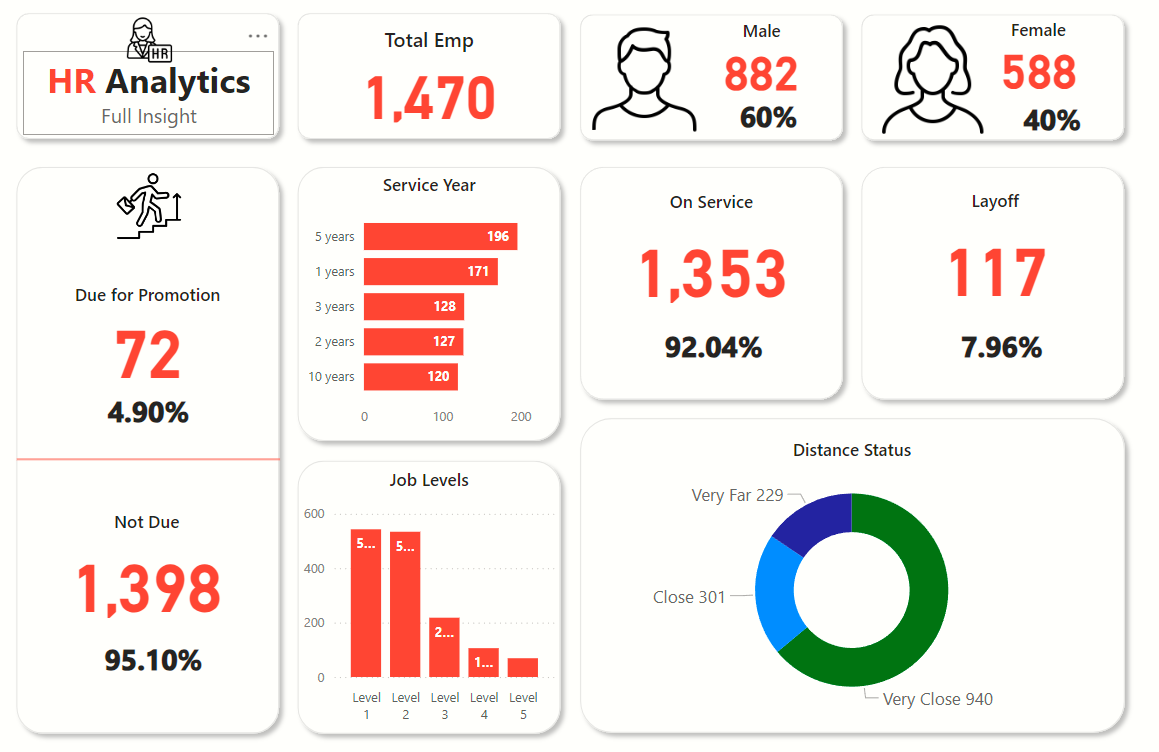

The page's visual inventory and layout, read from the dashboard file:
{"tool":"powerbi","page":{"name":"Page 1","canvas":[1280,720],"ordinal":0},"visuals":[{"type":"shape","box":[15.6,9.7,157.4,699.8],"z":0},{"type":"shape","box":[195.4,16.5,264.4,136.1],"z":1000},{"type":"shape","box":[459.7,16.5,264.4,136.1],"z":2000},{"type":"shape","box":[724.1,17.5,264.4,136.1],"z":3000},{"type":"shape","box":[988.4,17.5,264.4,136.1],"z":4000},{"type":"shape","box":[195.4,160.4,264.4,549.1],"z":5000},{"type":"shape","box":[459.7,160.4,264.4,275],"z":6000},{"type":"shape","box":[459.7,435.4,264.4,274.1],"z":7000},{"type":"shape","box":[724.1,160.4,264.4,236.2],"z":8000},{"type":"shape","box":[988.4,160.4,264.4,236.2],"z":9000},{"type":"shape","box":[724.1,396.5,528.7,313],"z":10000},{"type":"textbox","box":[210.9,61.3,236.2,78.7],"z":11000},{"type":"card","title":"Total Emp","fields":{"Values":["All Measures.Total Emp"]},"box":[468.5,36.9,245.9,95.2],"z":12000},{"type":"image","box":[303.2,24.3,52.5,52.5],"z":13000},{"type":"card","title":"Male","fields":{"Values":["All Measures.Male"]},"box":[829,27.2,149.7,75.8],"z":14000},{"type":"card","title":"Male","fields":{"Values":["All Measures.% male"]},"box":[841.7,100.1,137,48.6],"z":15000},{"type":"image","box":[738.6,32.1,110.8,112.7],"z":16000},{"type":"card","title":"Female","fields":{"Values":["All Measures.Female"]},"box":[1081.7,26.2,162.3,75.8],"z":17000},{"type":"card","title":"Male","fields":{"Values":["All Measures.% female"]},"box":[1107,102.1,137,48.6],"z":18000},{"type":"image","box":[1004,30.1,118.6,114.7],"z":19000},{"type":"card","title":"Due for Promotion","fields":{"Values":["All Measures.Due for Promotion"]},"box":[206,274.1,243,101.1],"z":20000},{"type":"card","title":"Male","fields":{"Values":["All Measures.% due for promotion"]},"box":[260.5,376.1,137,48.6],"z":21000},{"type":"image","box":[291.6,170.1,73.9,72.9],"z":22000},{"type":"shape","box":[205.1,435.4,246.9,15.6],"z":23000},{"type":"card","title":"Not Due ","fields":{"Values":["All Measures.Not Due for Promotion"]},"box":[204.1,487.9,245.9,112.7],"z":24000},{"type":"card","title":"Male","fields":{"Values":["All Measures.% not due for promotion"]},"box":[259.5,608.4,148.7,48.6],"z":25000},{"type":"clusteredBarChart","title":"Service Year","fields":{"Y":["All Measures.Total Emp"],"Category":["Hr Analytics Data.Service Year"]},"box":[468.5,174.9,245.9,247.8],"z":26000},{"type":"columnChart","title":"Job Levels","fields":{"Category":["Hr Analytics Data.Job Levels"],"Y":["All Measures.Total Emp"]},"box":[468.5,451,245.9,247.8],"z":26001},{"type":"card","title":"On Service","fields":{"Values":["All Measures.On Service"]},"box":[732.8,187.6,247.8,123.4],"z":26002},{"type":"card","title":"Male","fields":{"Values":["All Measures.% retrenchment"]},"box":[795,314.9,128.3,48.6],"z":26003},{"type":"card","title":"Layoff","fields":{"Values":["All Measures.Layoff"]},"box":[998.1,186.6,247.8,123.4],"z":26004},{"type":"card","title":"Male","fields":{"Values":["All Measures.% layoff"]},"box":[1061.3,314.9,134.1,48.6],"z":26005},{"type":"donutChart","title":"Distance Status","fields":{"Category":["Hr Analytics Data.Distance Status"],"Y":["All Measures.Total Emp"]},"box":[732.8,422.8,511.2,265.3],"z":26006}]}

Visuals, with their boxes on the page's 1280x720 design canvas (x1, y1, x2, y2). These are canvas units, not pixel positions in the 1159x752 screenshot, which may show the page scaled, cropped or inside an application window:
shape: select_region(16, 10, 173, 710)
shape: select_region(195, 16, 460, 153)
shape: select_region(460, 16, 724, 153)
shape: select_region(724, 18, 988, 154)
shape: select_region(988, 18, 1253, 154)
shape: select_region(195, 160, 460, 710)
shape: select_region(460, 160, 724, 435)
shape: select_region(460, 435, 724, 710)
shape: select_region(724, 160, 988, 397)
shape: select_region(988, 160, 1253, 397)
shape: select_region(724, 396, 1253, 710)
textbox: select_region(211, 61, 447, 140)
"Total Emp" card: select_region(468, 37, 714, 132)
image: select_region(303, 24, 356, 77)
"Male" card: select_region(829, 27, 979, 103)
"Male" card: select_region(842, 100, 979, 149)
image: select_region(739, 32, 849, 145)
"Female" card: select_region(1082, 26, 1244, 102)
"Male" card: select_region(1107, 102, 1244, 151)
image: select_region(1004, 30, 1123, 145)
"Due for Promotion" card: select_region(206, 274, 449, 375)
"Male" card: select_region(260, 376, 398, 425)
image: select_region(292, 170, 366, 243)
shape: select_region(205, 435, 452, 451)
"Not Due " card: select_region(204, 488, 450, 601)
"Male" card: select_region(260, 608, 408, 657)
"Service Year" clusteredBarChart: select_region(468, 175, 714, 423)
"Job Levels" columnChart: select_region(468, 451, 714, 699)
"On Service" card: select_region(733, 188, 981, 311)
"Male" card: select_region(795, 315, 923, 364)
"Layoff" card: select_region(998, 187, 1246, 310)
"Male" card: select_region(1061, 315, 1195, 364)
"Distance Status" donutChart: select_region(733, 423, 1244, 688)
